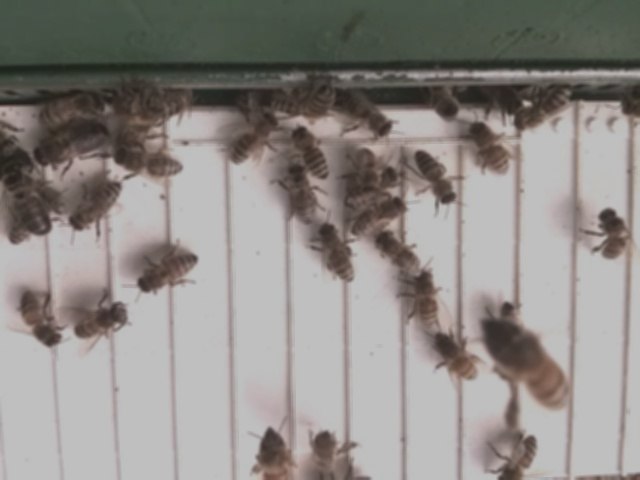Drone: (30, 118, 114, 169), (6, 165, 54, 241)
Worker: (65, 180, 126, 237), (135, 251, 202, 293), (18, 289, 63, 351), (351, 194, 411, 240), (417, 148, 461, 209), (229, 113, 279, 166), (114, 147, 187, 183), (470, 118, 512, 180), (318, 222, 358, 286), (71, 301, 130, 344), (291, 124, 330, 185), (435, 334, 481, 385), (284, 163, 320, 228), (37, 93, 106, 126), (498, 430, 542, 480), (375, 230, 424, 274), (594, 206, 631, 264), (412, 268, 442, 333)
